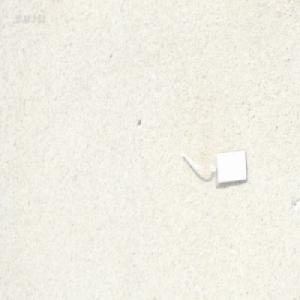LuggageTag: (176, 143, 246, 188)
